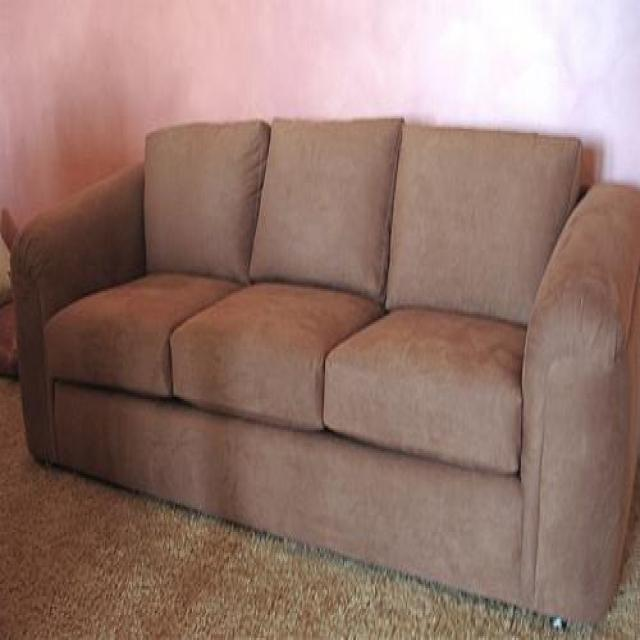sofa: (6, 111, 640, 627)
